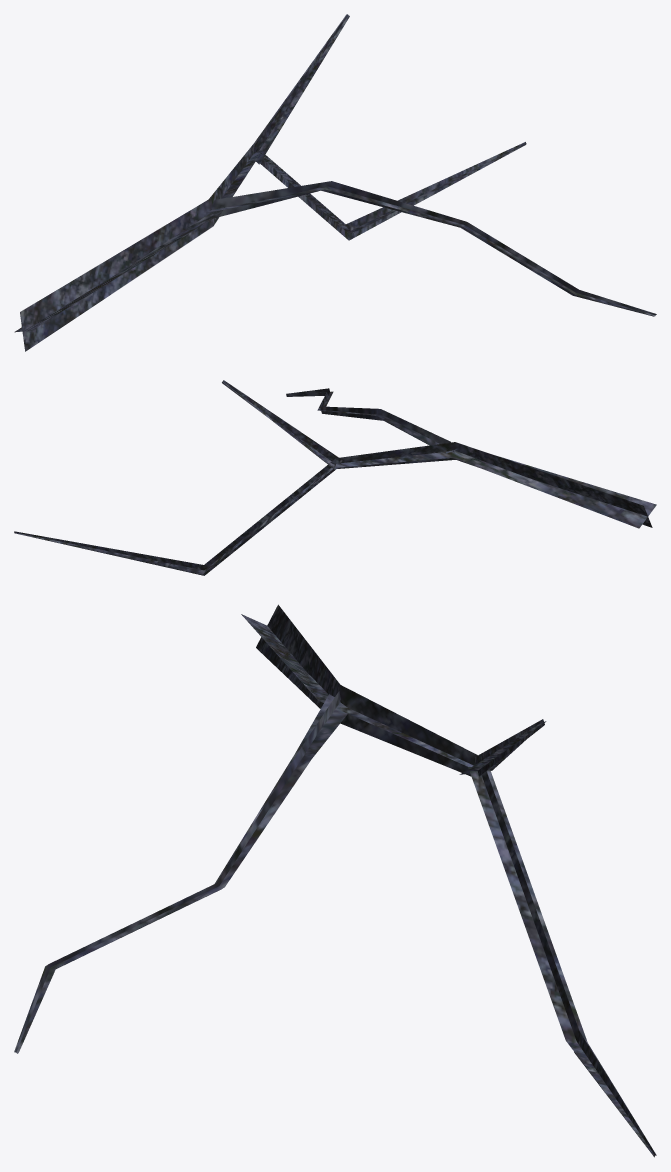
File: INST_EKH_MIRKBRANCH.fbx
3 renders of one model, top to bottom at view 1: azimuth 30°, elevation 25°; view 2: azimuth 150°, elevation 25°; view 3: azimuth 270°, elevation 25°, orthographic. The views are drawn at different scales.
Visible parts, largest first — view 1: INST_EKH_MIRKBRANCH; view 2: INST_EKH_MIRKBRANCH; view 3: INST_EKH_MIRKBRANCH.
Part boxes in pixels (x1,y1,x2,y2): INST_EKH_MIRKBRANCH: [14, 14, 656, 351]; INST_EKH_MIRKBRANCH: [14, 380, 656, 575]; INST_EKH_MIRKBRANCH: [14, 604, 656, 1157].
Bounding box in the file's own units: 28387 × 9978 × 17875.
Materials: 1 (1 with a texture image).
